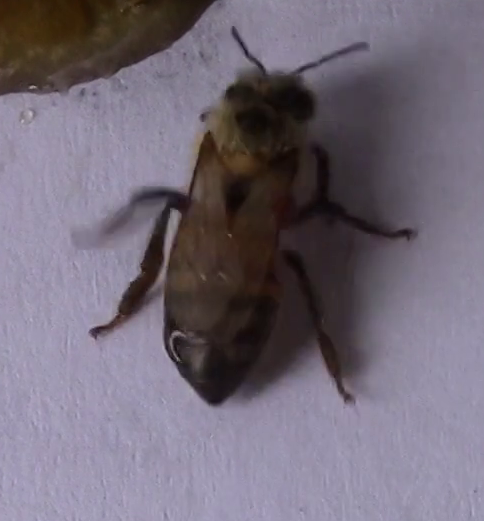Varroa destructor: (267, 188, 295, 231)
